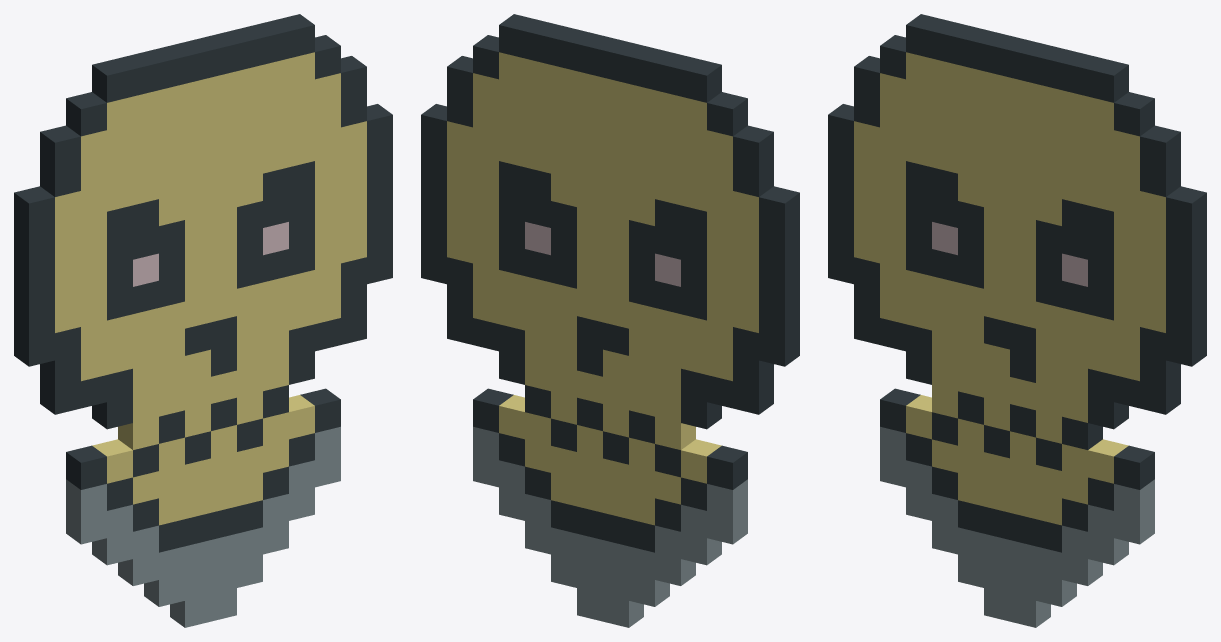
3 renders of one model, left to right at view 1: azimuth 30°, elevation 25°; view 2: azimuth 150°, elevation 25°; view 3: azimuth 330°, elevation 25°, orthographic.
Size of the model in its own units: 0.7 by 1.05 by 0.05.
